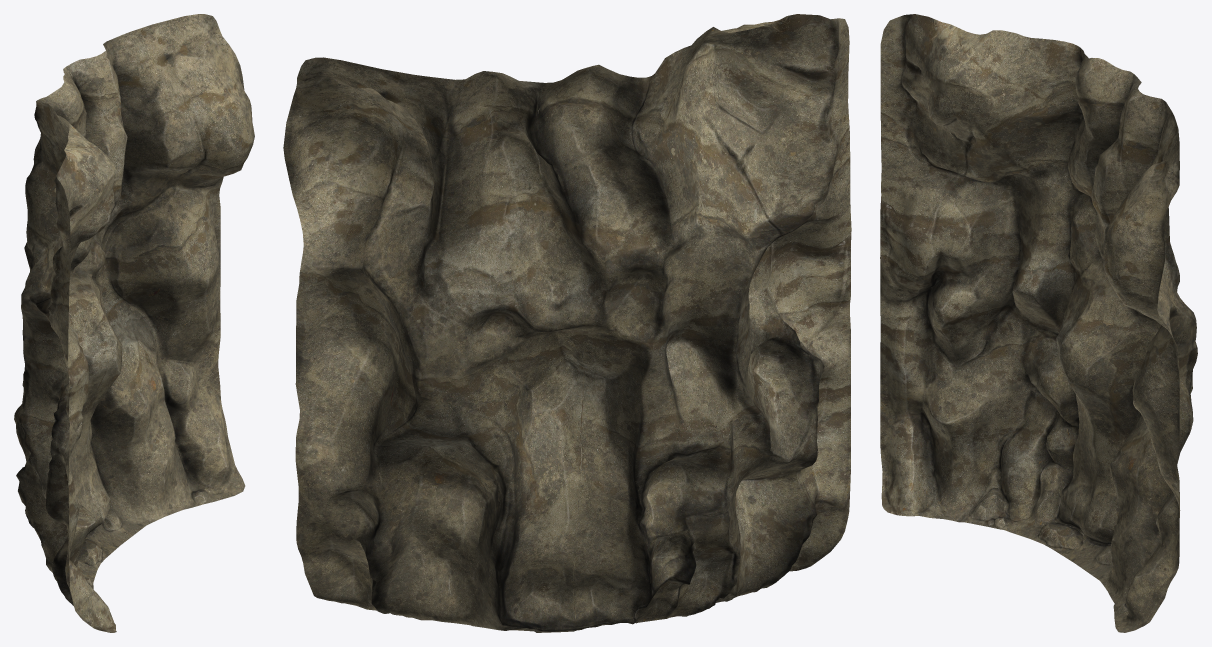
Rendered from cave_saltmine_jagged_wall_concave_01.dae.
3 renders of one model, left to right at view 1: azimuth 30°, elevation 25°; view 2: azimuth 150°, elevation 25°; view 3: azimuth 270°, elevation 25°, orthographic. The views are drawn at different scales.
Visible parts, largest first — view 1: wall_1_concave; view 2: wall_1_concave; view 3: wall_1_concave.
Boxes of the visible parts, x1=… form: wall_1_concave: x1=14, y1=14, x2=254, y2=632; wall_1_concave: x1=283, y1=14, x2=851, y2=632; wall_1_concave: x1=880, y1=14, x2=1197, y2=632.
Bounding box in the file's own units: 2.87 × 4.11 × 2.43.
